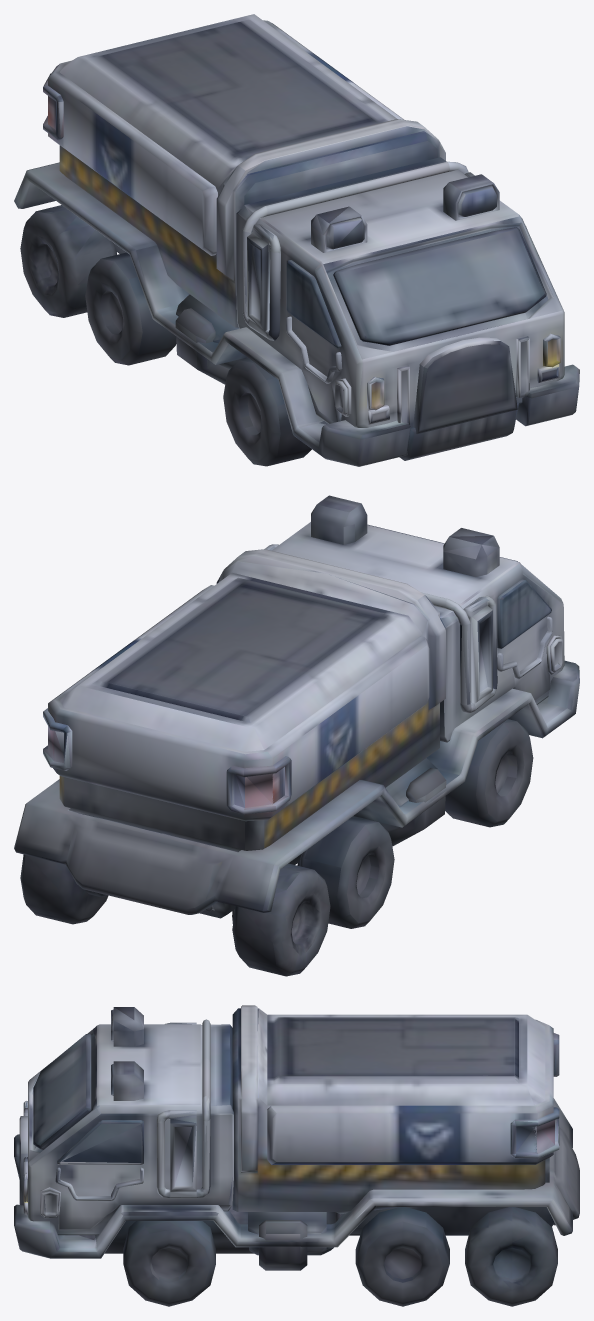
The model's file is 整備庫_05_運輸卡車.glb.
3 views of the same model, one above another, from view 1: azimuth 30°, elevation 25°; view 2: azimuth 150°, elevation 25°; view 3: azimuth 270°, elevation 25° (orthographic). The views are drawn at different scales.
Visible parts, largest first — view 1: 05_運輸卡車; view 2: 05_運輸卡車; view 3: 05_運輸卡車.
Boxes of the visible parts, x1,y1,x2,y2 form: 05_運輸卡車: (14,14,579,466); 05_運輸卡車: (14,495,579,976); 05_運輸卡車: (14,1005,579,1306).
Size of the model in its own units: 0.0898 by 0.085 by 0.1997.
1 material, 1 textured.
